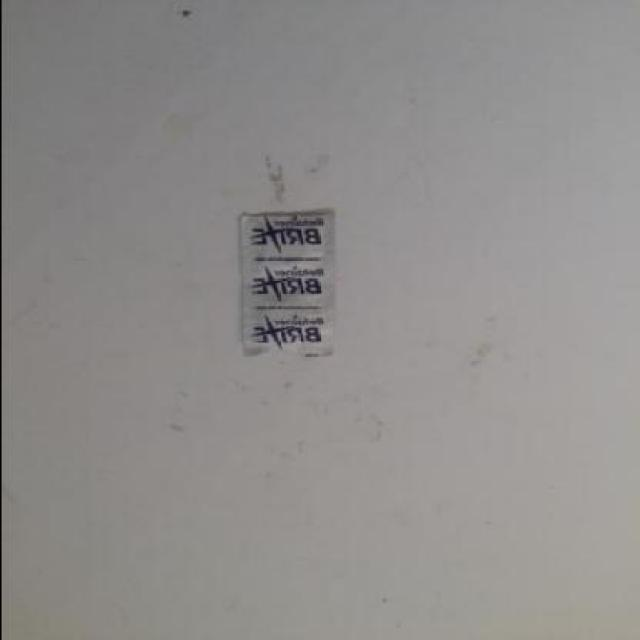PLASTIC: (238, 215, 336, 359)
